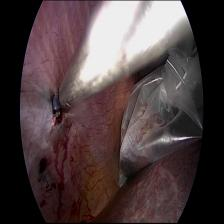Bipolar: (51, 78, 73, 118)
Specimen Bag: (114, 51, 201, 202)
